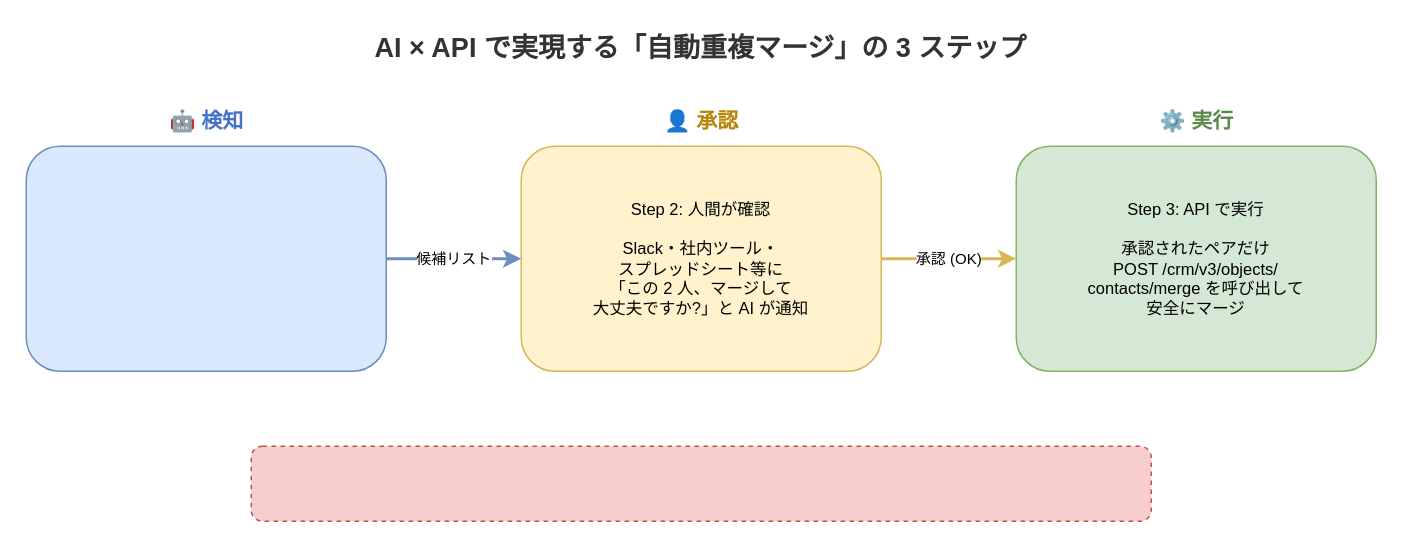
Image size: 1403x548. Some labels were removed from this diagram. Here are the shapes that lost their labels. From the top down, the box of each, then its label:
(25, 145, 386, 371): Step 1: AI が検知 AI（またはスクリプト）が 「名前が一致、かつ会社名や 電話番号が類似」している リードを抽出してリスト化
(250, 445, 1151, 521): 全自動にしない理由: マージは取り消し不可の一発勝負。同姓同名の別人を誤マージするリスクがあるため、実行前に人間の承認を挟む
